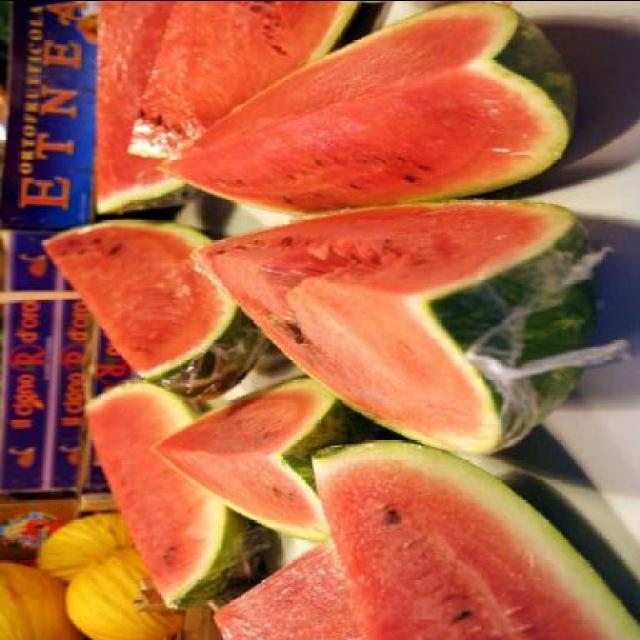Watermelon: (41, 0, 639, 640), (306, 432, 638, 636)
